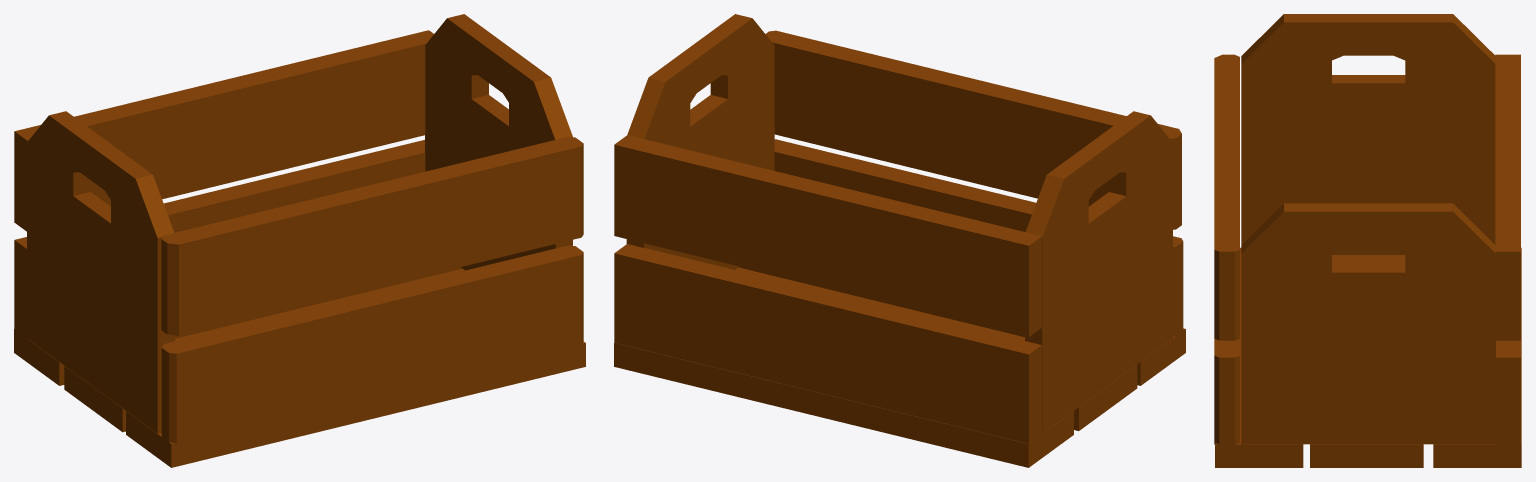
File: CaixoteVazio.fbx
3 renders of one model, left to right at view 1: azimuth 30°, elevation 25°; view 2: azimuth 150°, elevation 25°; view 3: azimuth 270°, elevation 25°, orthographic. The views are drawn at different scales.
Visible parts, largest first — view 1: CaixoteVazio; view 2: CaixoteVazio; view 3: CaixoteVazio.
Part boxes in pixels (<box>): CaixoteVazio: <box>14,14,585,467</box>; CaixoteVazio: <box>614,14,1185,467</box>; CaixoteVazio: <box>1214,14,1521,467</box>.
Bounding box in the file's own units: 22.45 × 13.59 × 14.74.
Materials: 1 (1 with a texture image).
